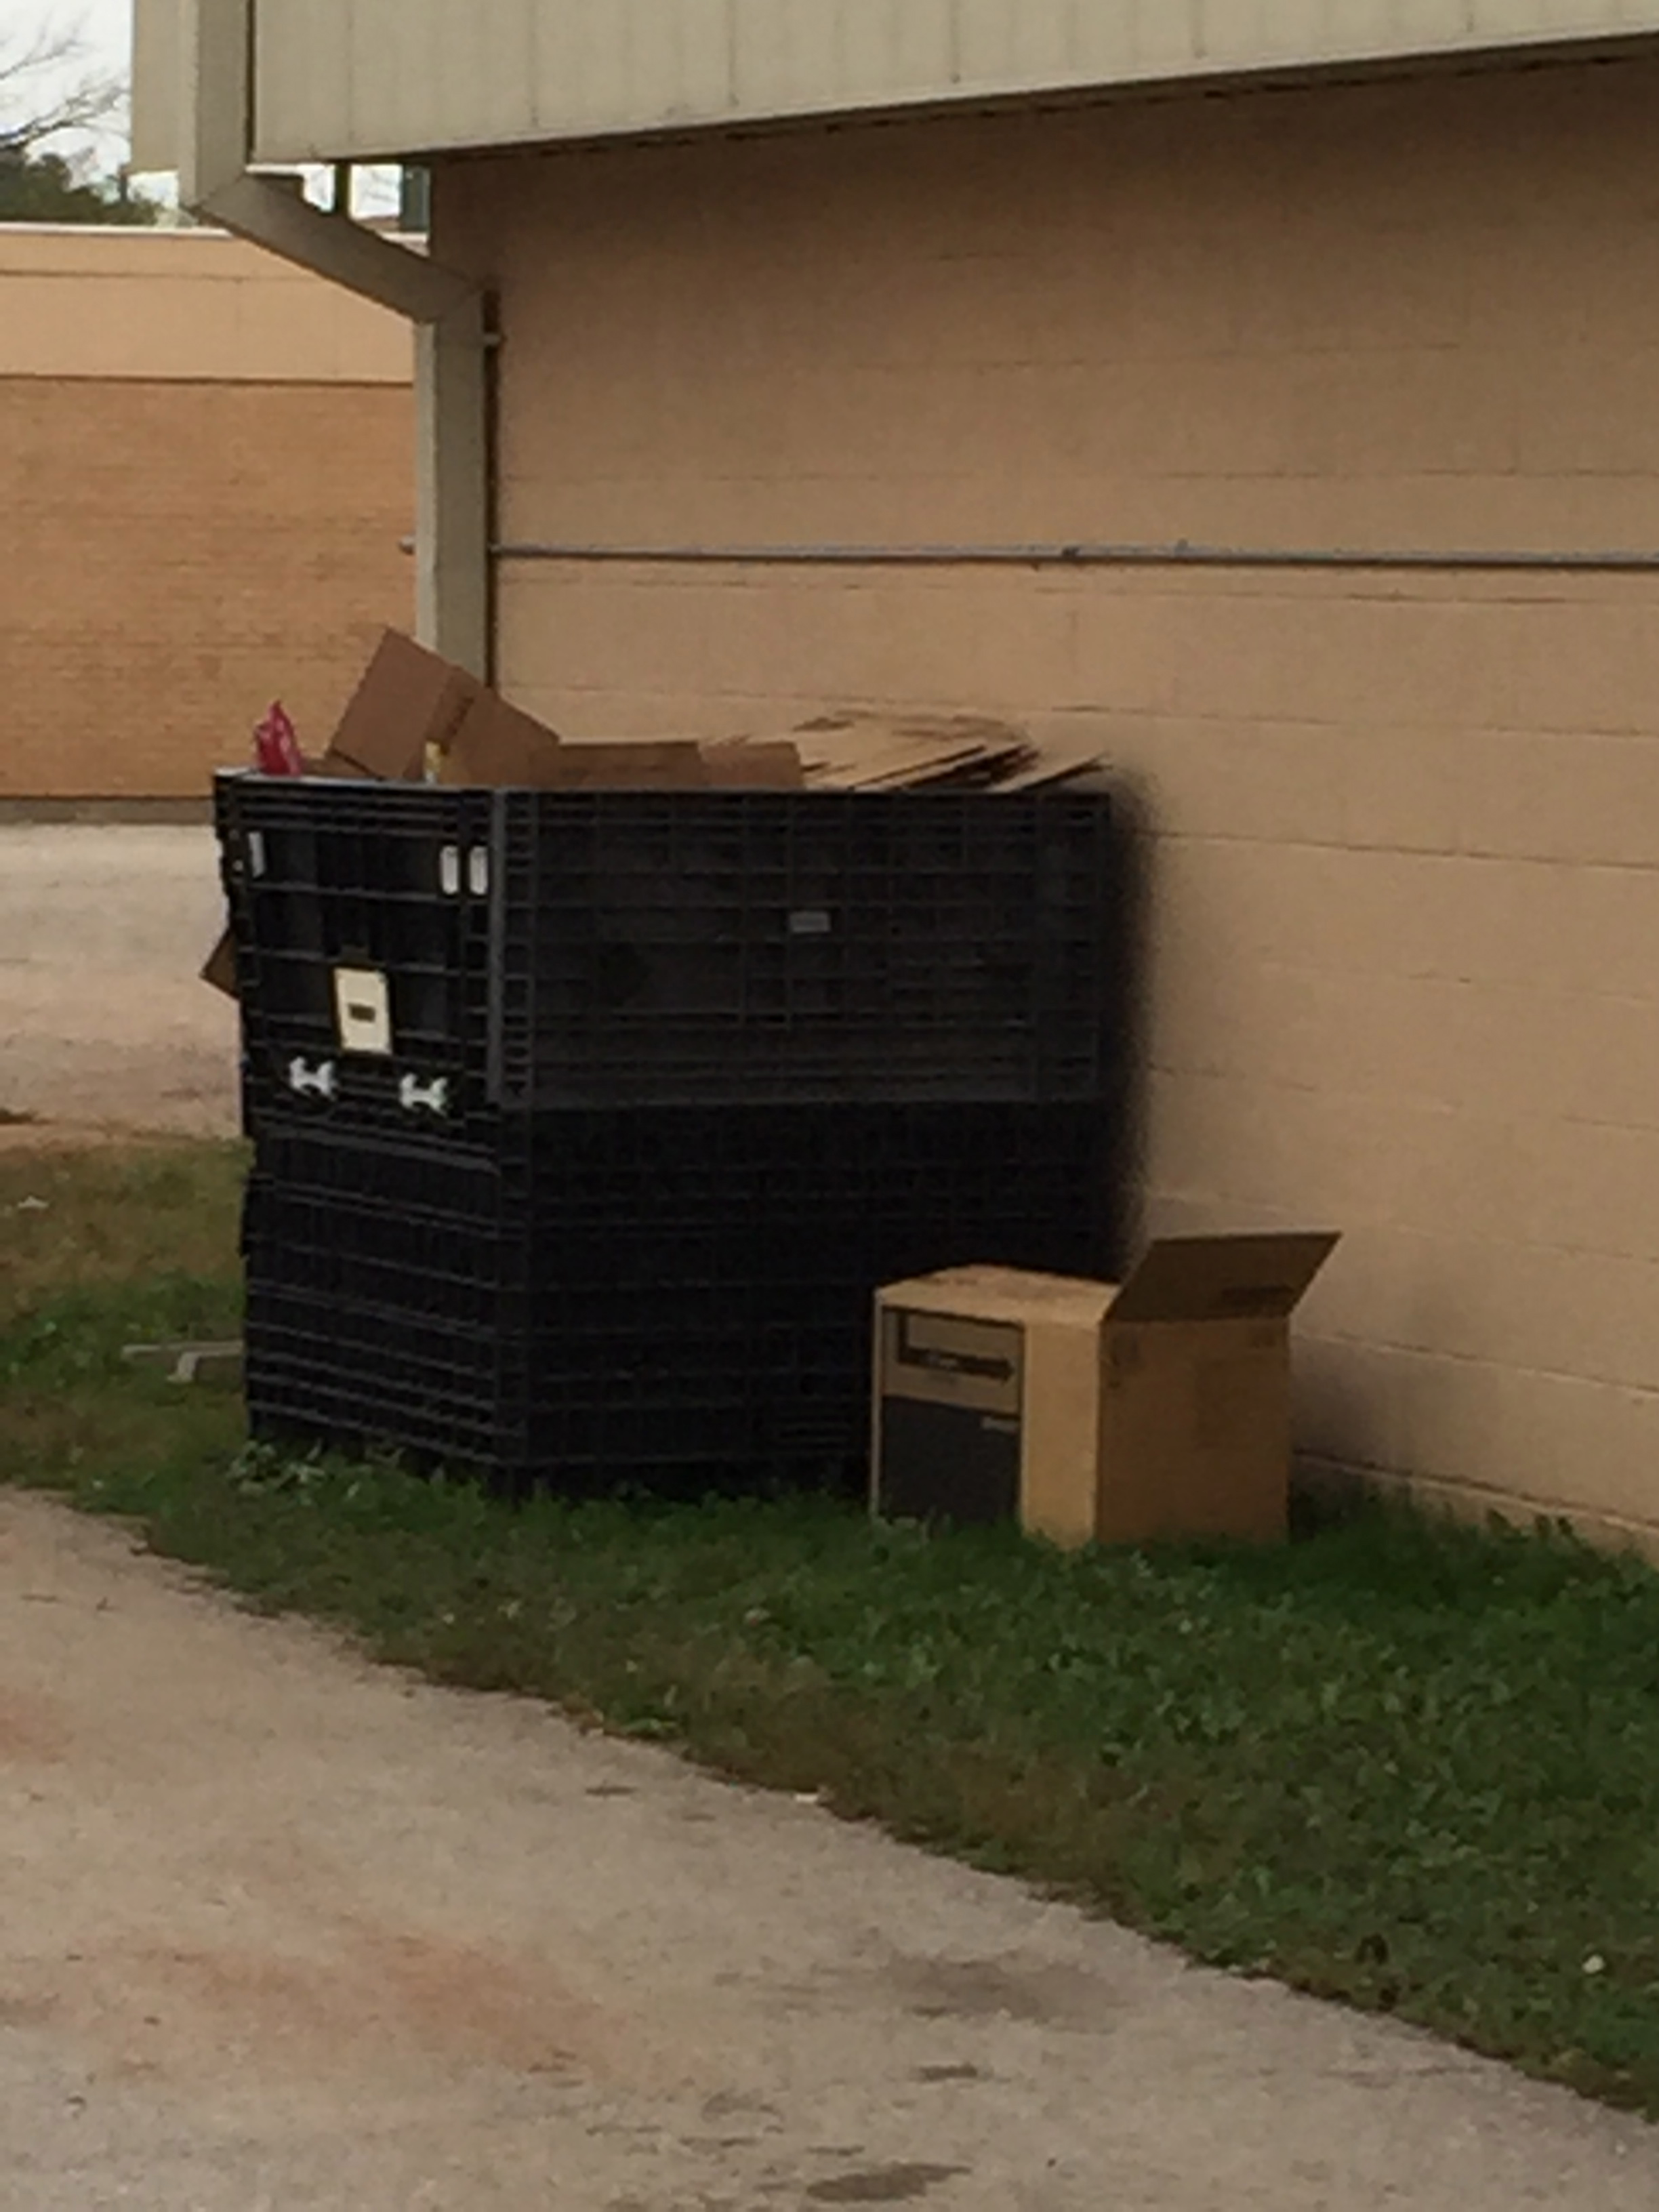Dumpster: (174, 758, 1121, 1463)
